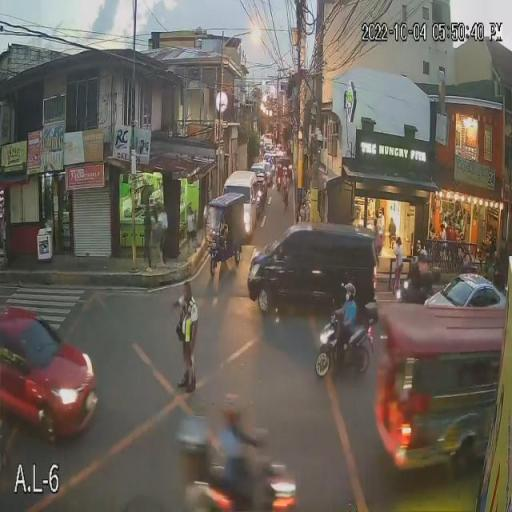helmet: (225, 401, 244, 427), (343, 282, 357, 295), (418, 248, 428, 260)
motorcycle: (176, 410, 300, 512), (314, 305, 376, 381), (399, 263, 439, 304)
rider: (209, 402, 265, 509), (330, 282, 360, 353), (412, 248, 433, 290), (274, 172, 284, 194)
